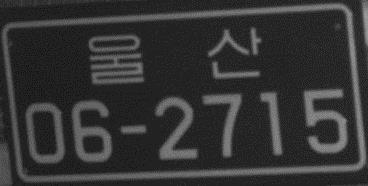-: (115, 119, 149, 138)
0: (24, 100, 65, 166)
1: (257, 89, 287, 157)
2: (153, 94, 198, 162)
5: (300, 87, 349, 156)
6: (69, 99, 112, 165)
7: (200, 91, 243, 160)
울산_D: (86, 24, 263, 86)
